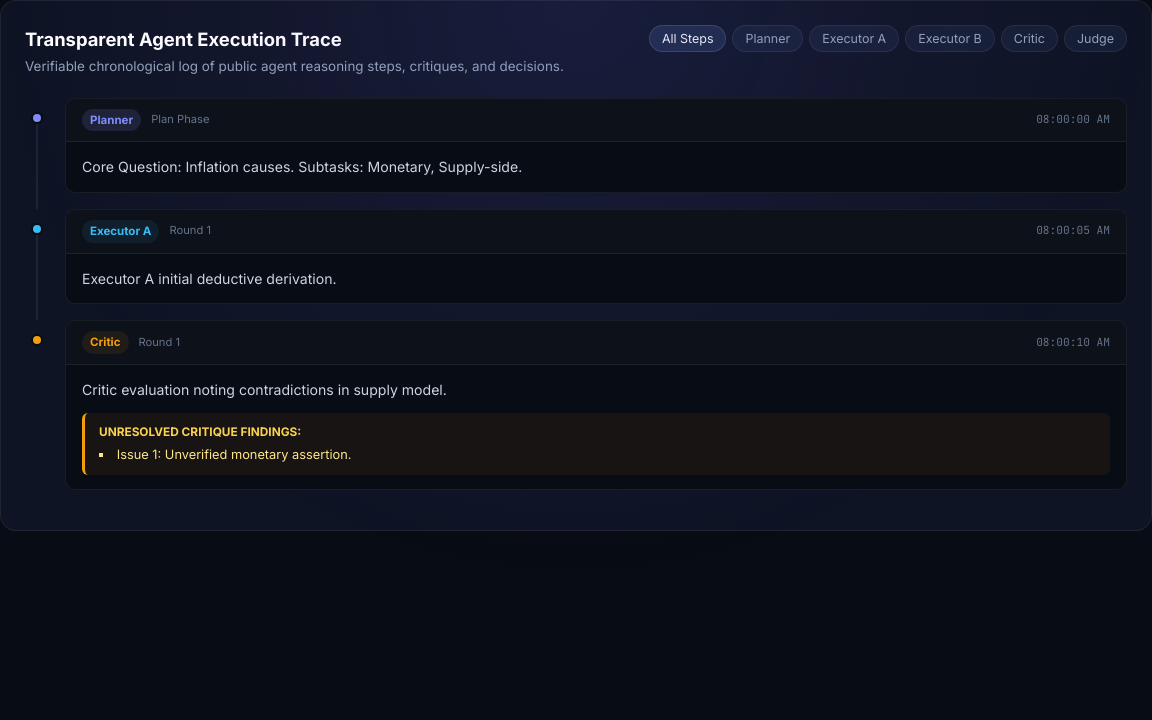
it: AgentTraceViewer Component › filters trace entries when filter pills are clicked
Click the button "Planner": (768, 38) [732,25,803,52]
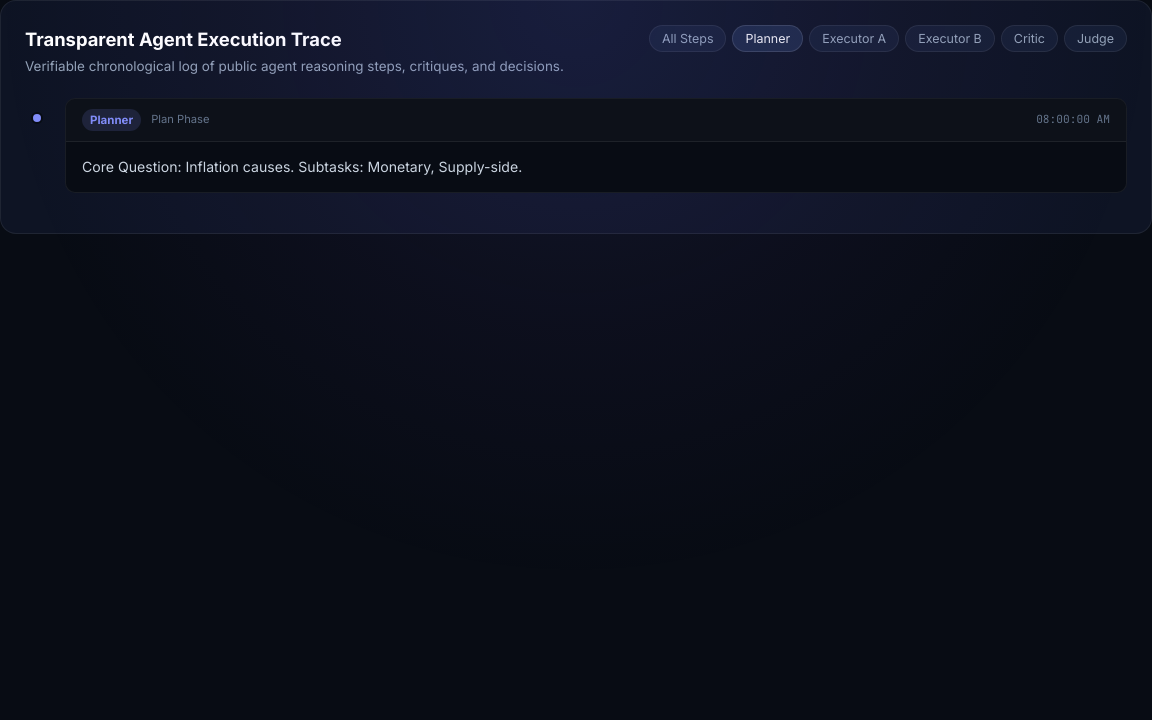
Expected: the text "Core Question: Inflation causes." is shown, [82,158,522,175]
Result: the text "Executor A initial deductive derivation." is gone
Result: the text "Critic evaluation noting contradictions" is gone
Click the button "All Steps": (688, 38) [649,25,726,52]
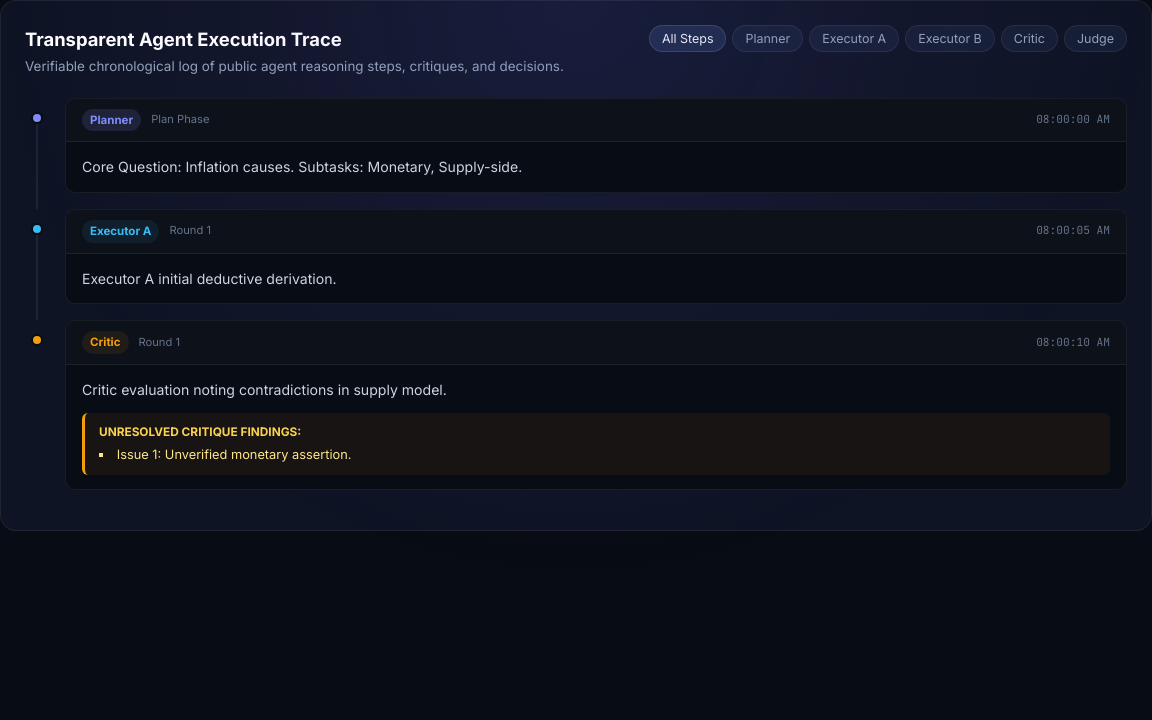
Result: the text "Executor A initial deductive derivation." is shown at [82,270,337,287]
